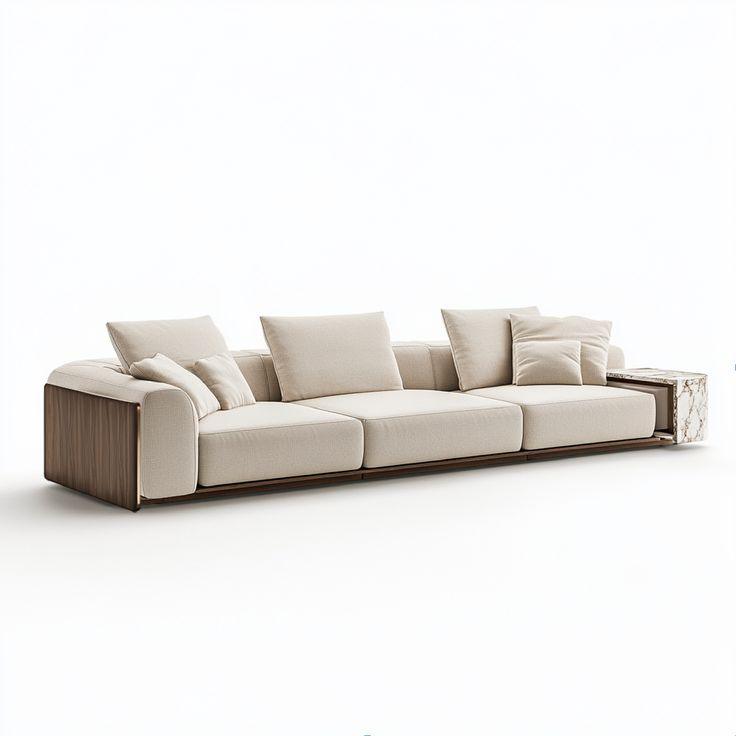3seatersofa: (44, 307, 706, 510)
backrest: (393, 342, 457, 388), (231, 350, 279, 400), (74, 358, 122, 372), (609, 347, 623, 369)
base: (195, 437, 667, 488)
leftarmrest: (608, 368, 707, 443)
pillow: (108, 317, 254, 417), (443, 307, 608, 390), (262, 312, 403, 400)
rightarmrest: (44, 361, 197, 510)
seat: (200, 386, 655, 485)
